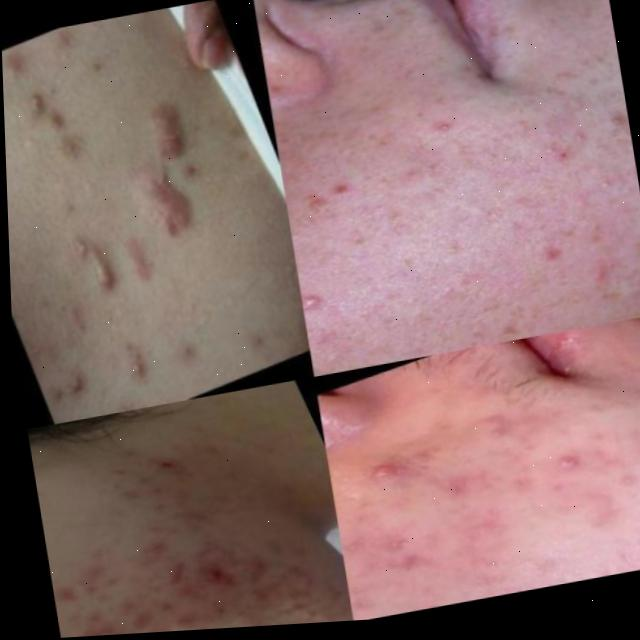Acne: (279, 53, 640, 337), (353, 371, 640, 580), (33, 43, 254, 302), (59, 558, 205, 638)
